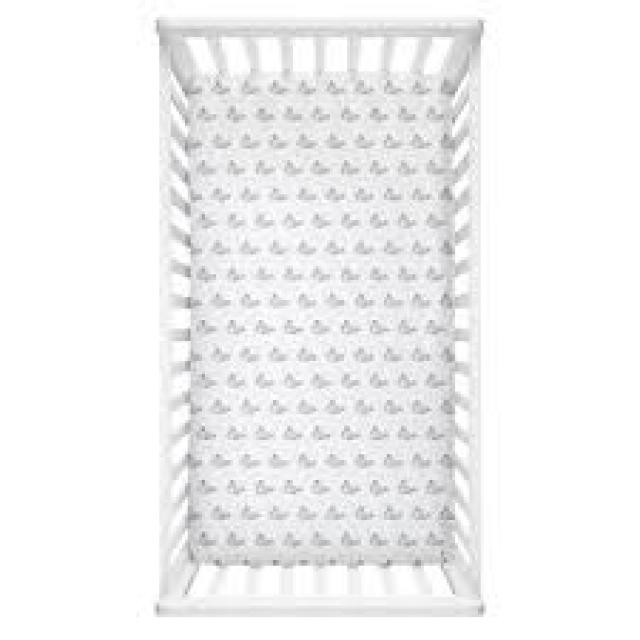crib: (151, 12, 486, 617)
